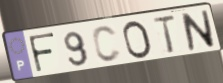9: (62, 29, 90, 68)
C: (90, 24, 123, 64)
F: (26, 31, 57, 75)
N: (179, 9, 217, 53)
O: (122, 19, 155, 61)
T: (151, 14, 178, 56)
